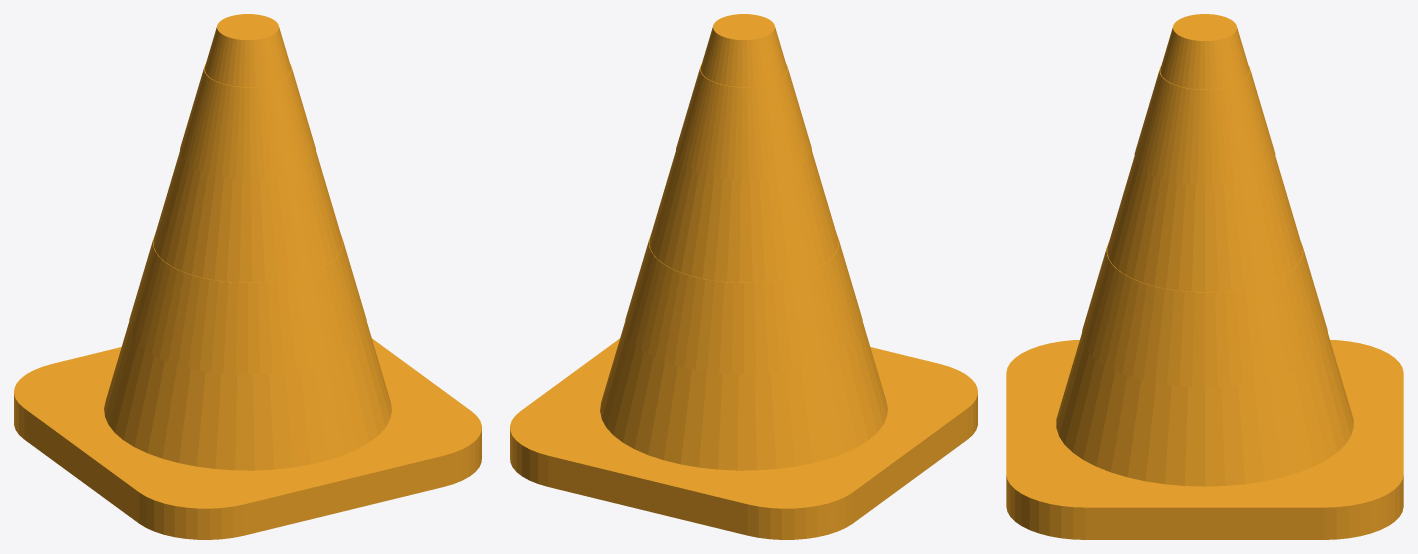
Rendered from TrafficCone.dae.
The picture shows the model from 3 angles, left to right: view 1: azimuth 30°, elevation 25°; view 2: azimuth 150°, elevation 25°; view 3: azimuth 270°, elevation 25°; orthographic projection. The views are drawn at different scales.
Visible parts, largest first — view 1: Birillo 34cm; view 2: Birillo 34cm; view 3: Birillo 34cm.
Part boxes in pixels (left/top/right/bottom): Birillo 34cm: left=14, top=14, right=481, bottom=539; Birillo 34cm: left=510, top=14, right=977, bottom=539; Birillo 34cm: left=1006, top=14, right=1403, bottom=539.
Size of the model in its own units: 0.287 by 0.287 by 0.3415.
